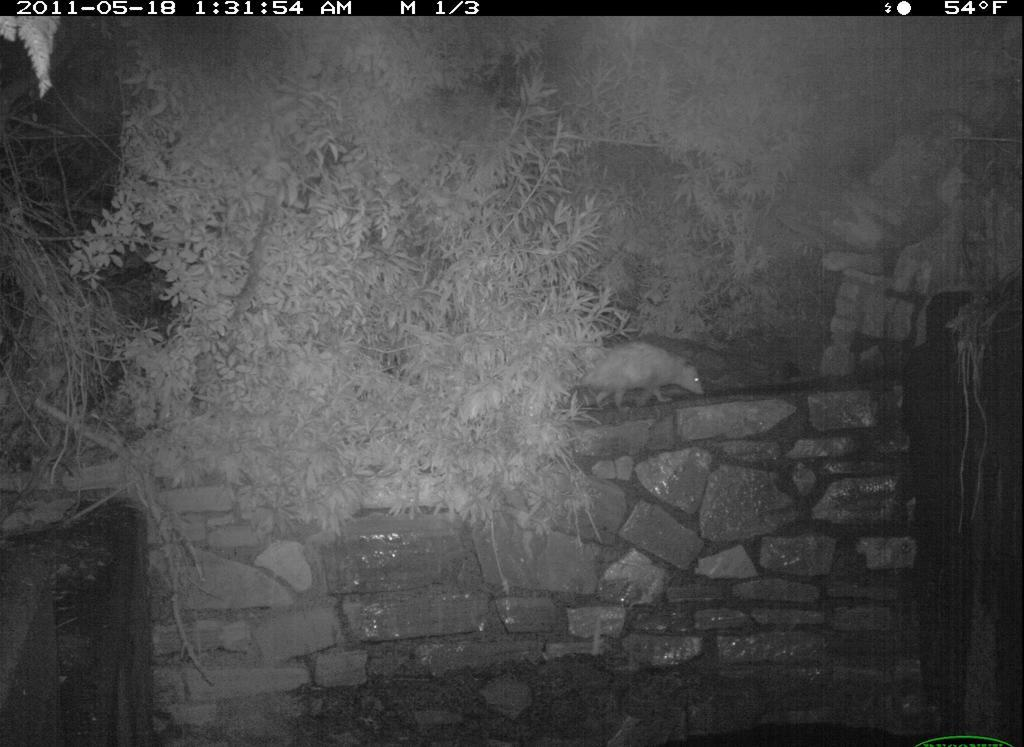opossum: (532, 340, 713, 420)
